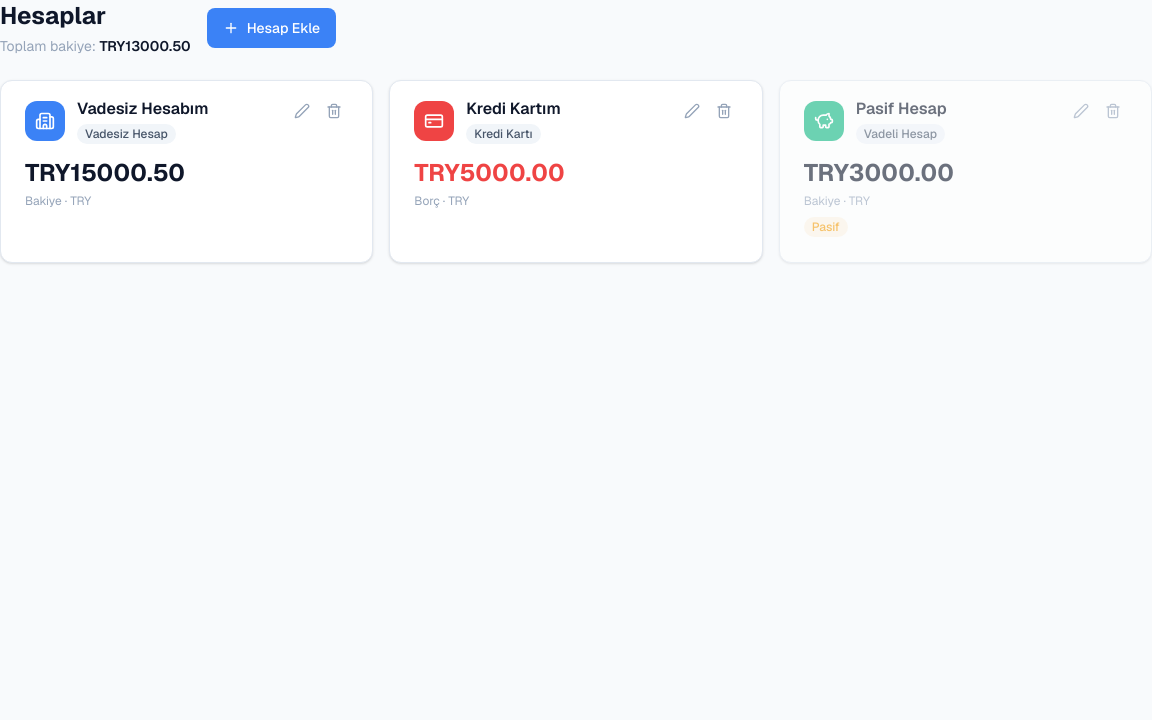
Test: AccountsPage › cancels delete
Expected: the heading "Vadesiz Hesabım" is shown, [77,97,208,121]
Click the button titled "Sil" next to "Vadesiz Hesabım" at (334, 111), box [320,97,348,125]
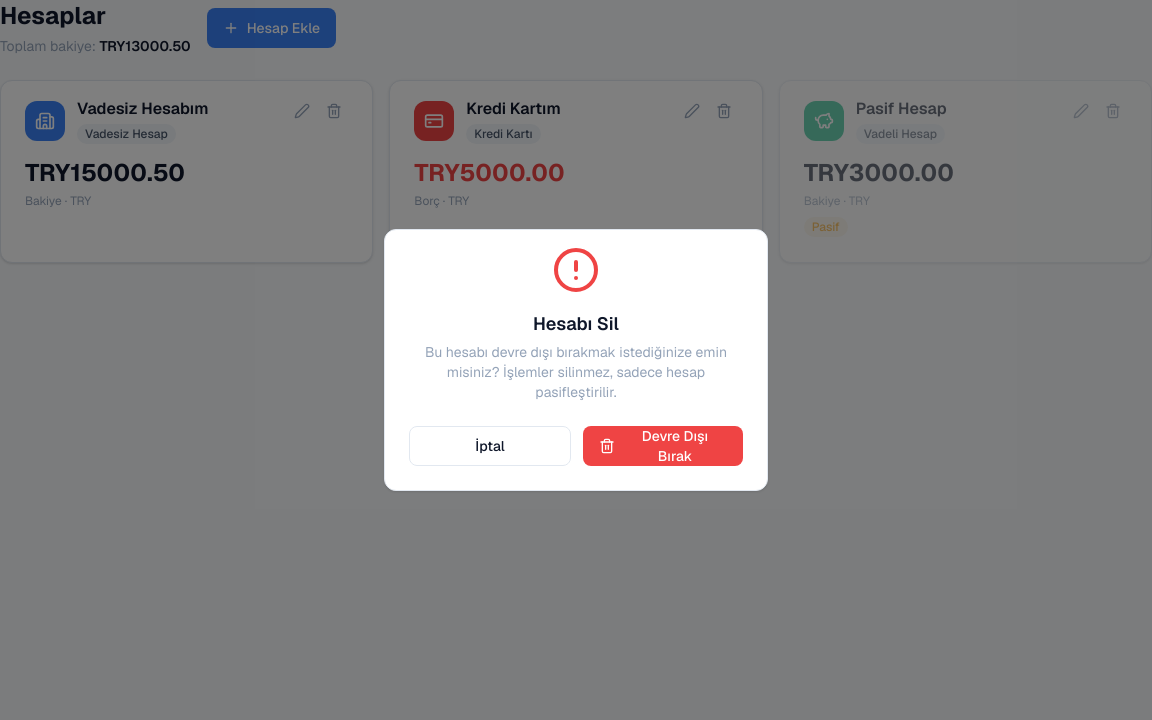
Expected: the heading "Hesabı Sil" is shown, [533,312,619,335]
Click the button "İptal" at (490, 446), box [409,426,571,466]
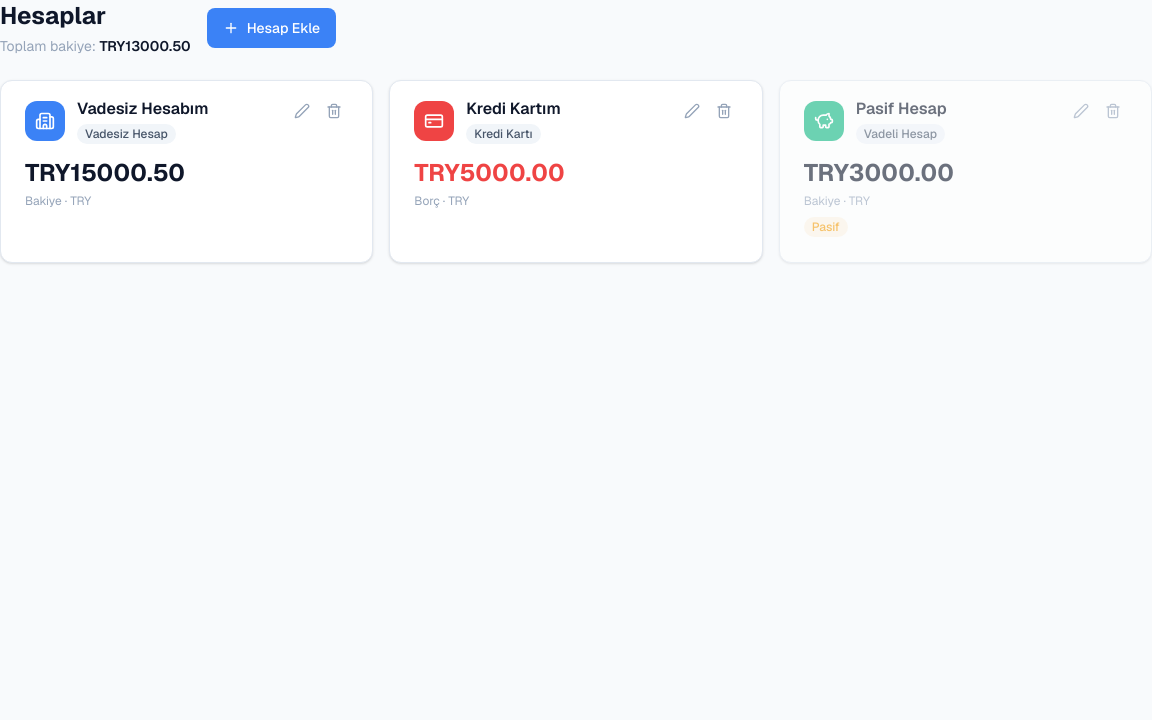
Expected: the heading "Hesabı Sil" is gone
